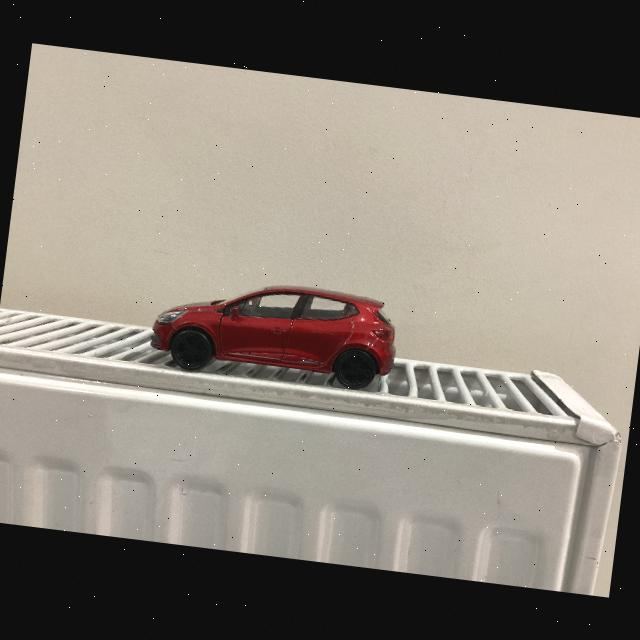Dogru_Jant: (173, 332, 208, 368), (338, 353, 372, 386)
